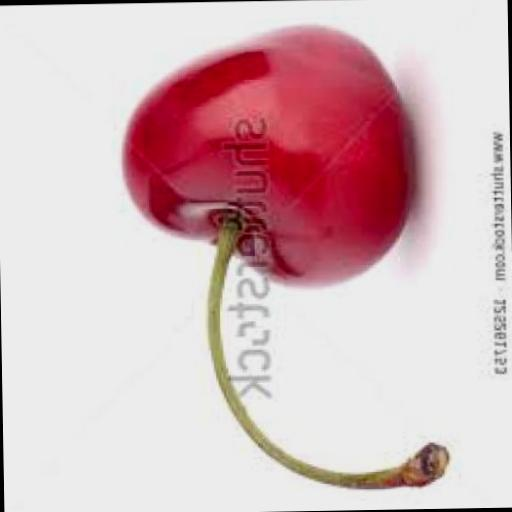biodegradable: (114, 19, 417, 290)
